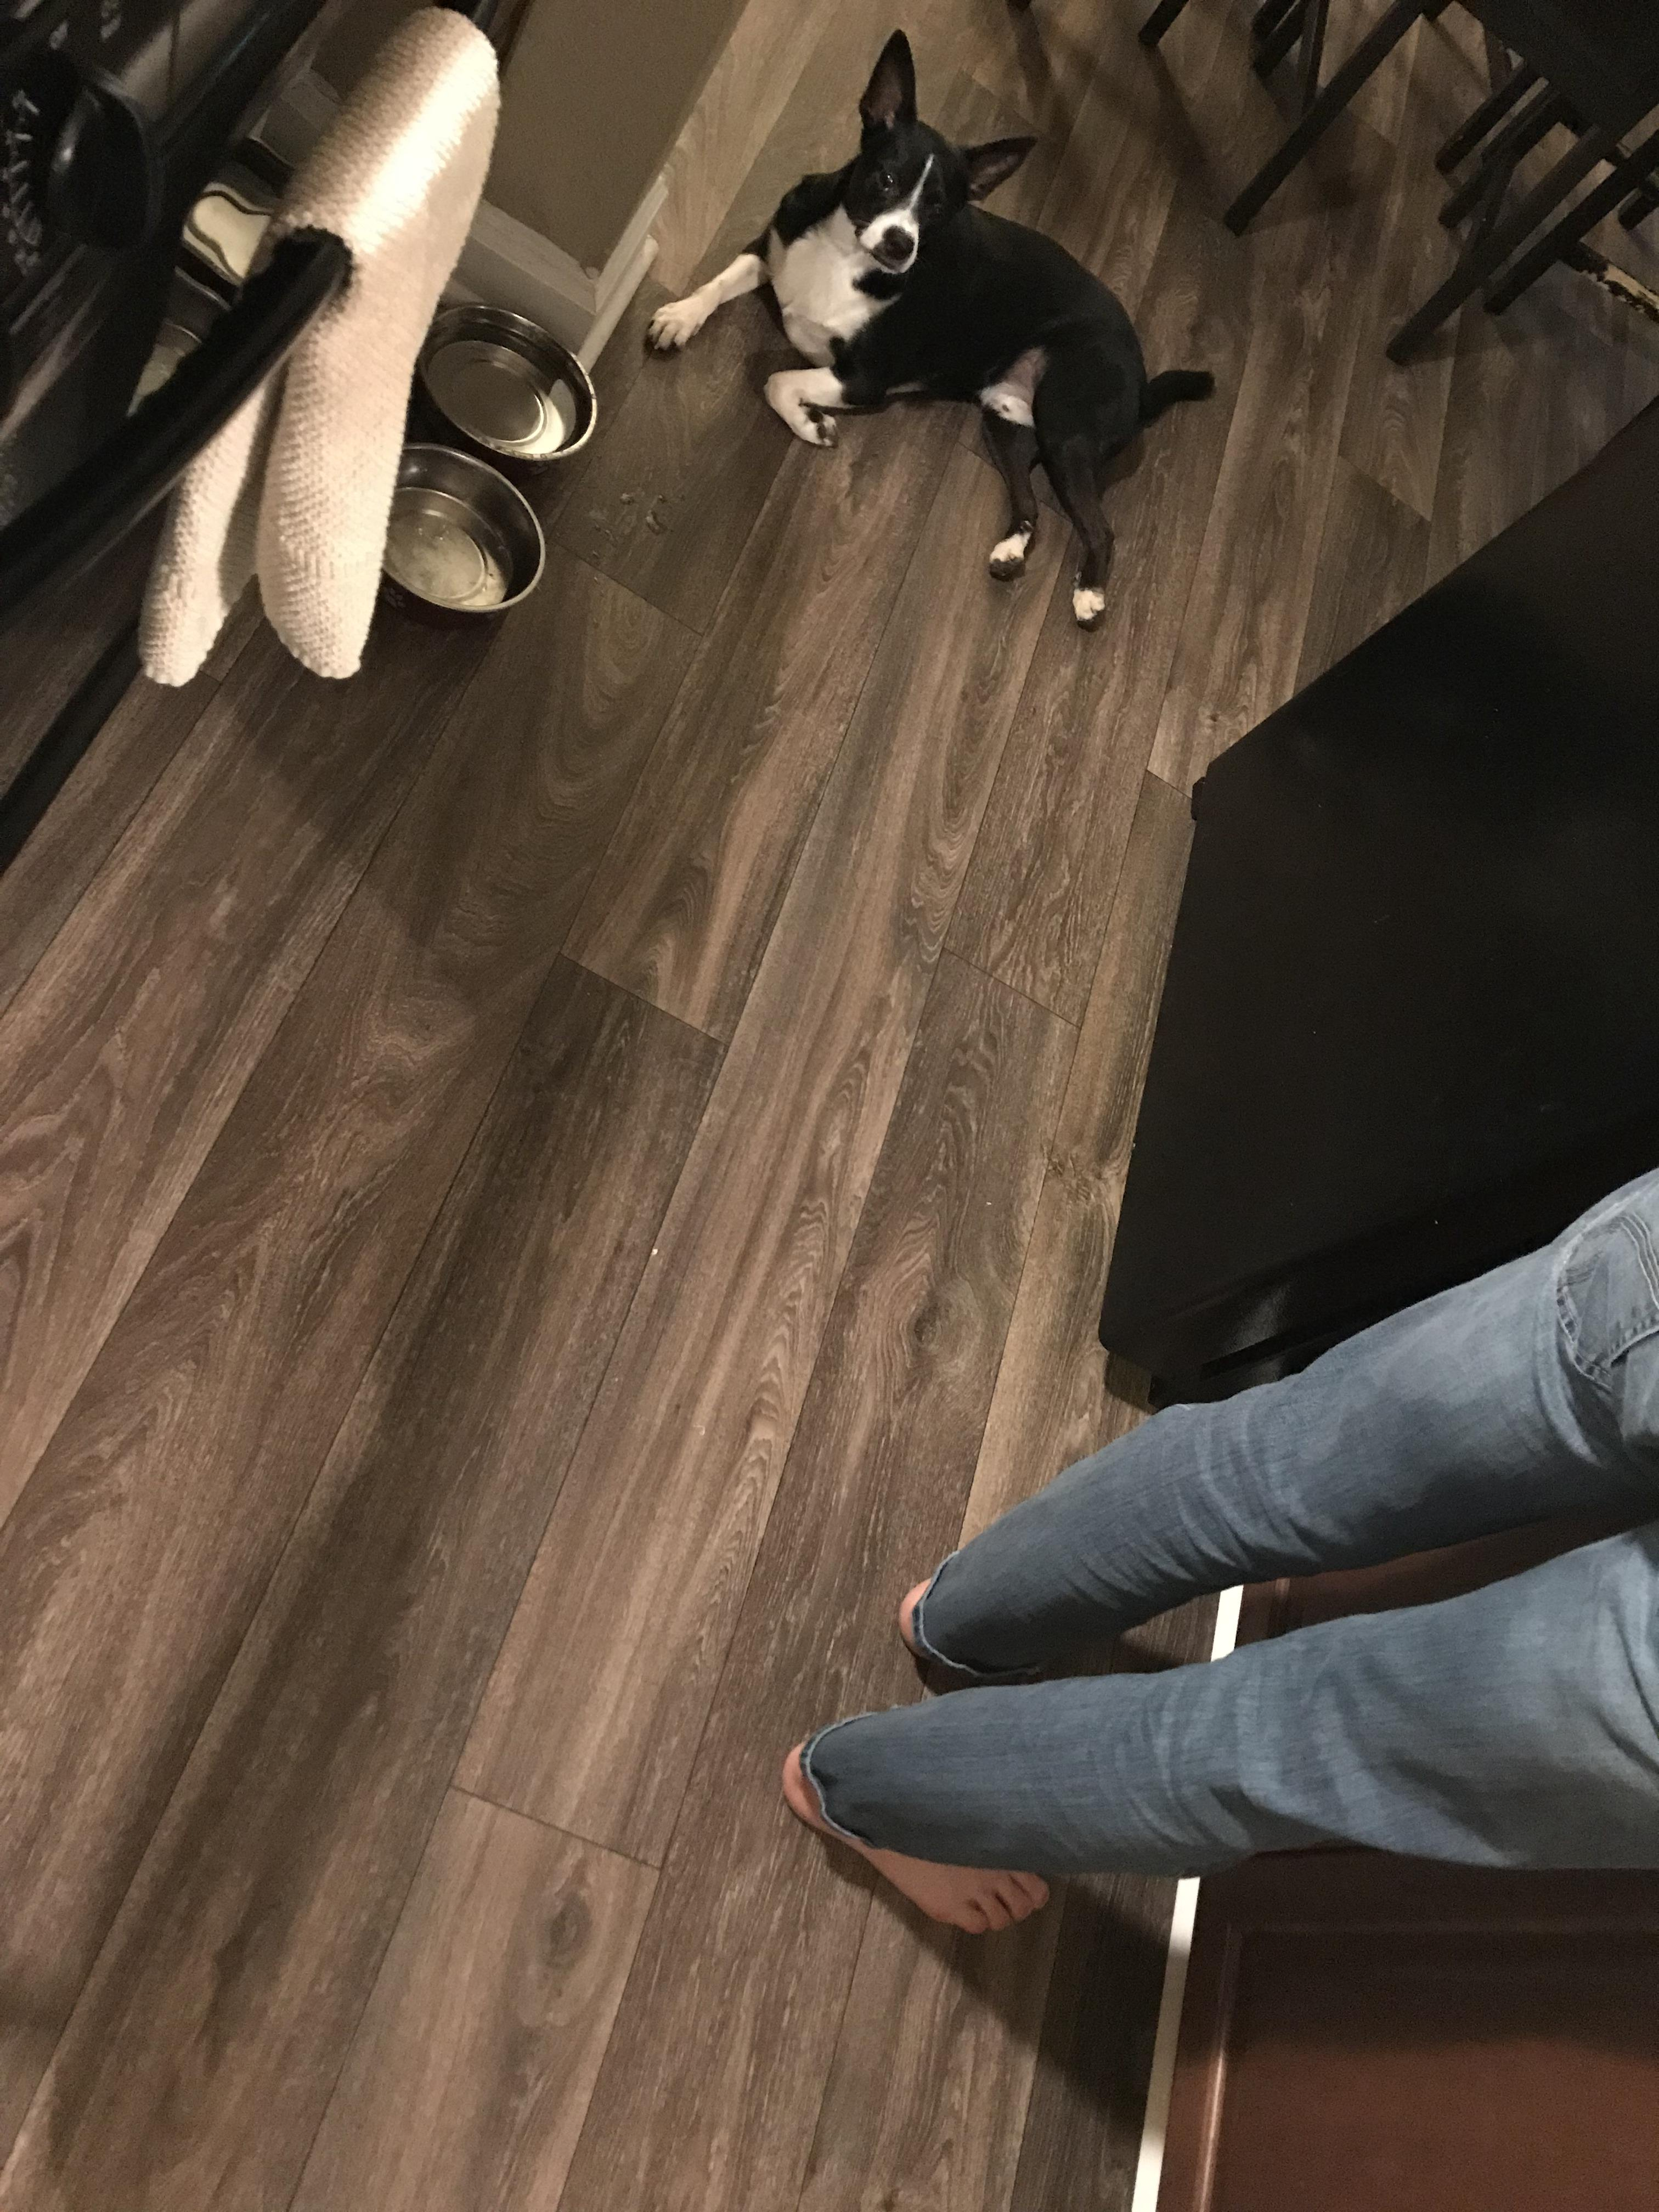Harley: (608, 9, 1243, 641)
